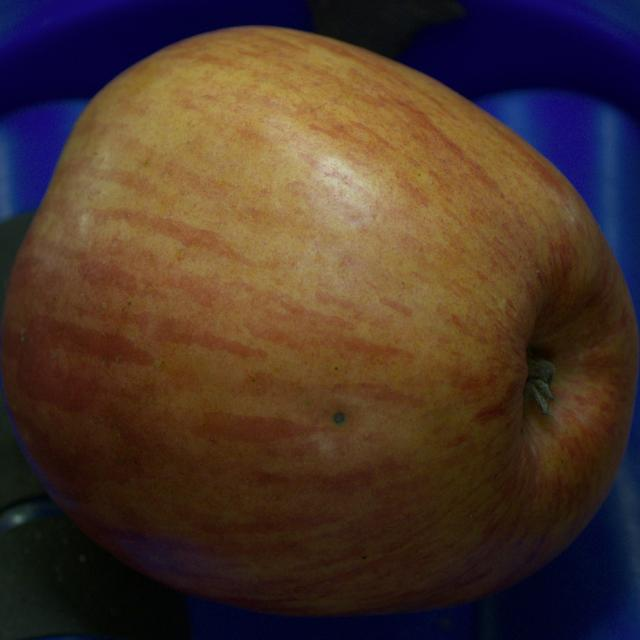apple: (2, 27, 639, 614)
pest: (332, 412, 345, 424)
